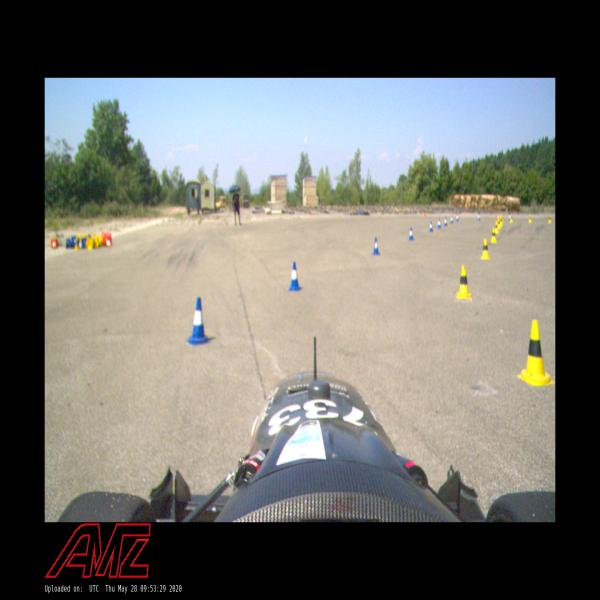blue_cone: (185, 296, 210, 346), (287, 261, 302, 291), (372, 237, 380, 256), (409, 227, 414, 241), (429, 221, 433, 232), (438, 218, 442, 229), (444, 217, 448, 226), (450, 215, 453, 223), (456, 213, 459, 221), (477, 212, 480, 220)
yellow_cone: (516, 320, 555, 386), (456, 264, 471, 300), (481, 238, 490, 259), (491, 228, 497, 243), (495, 220, 499, 234), (528, 214, 532, 223), (509, 214, 513, 223), (548, 215, 552, 223), (498, 219, 501, 229), (500, 217, 503, 226)
